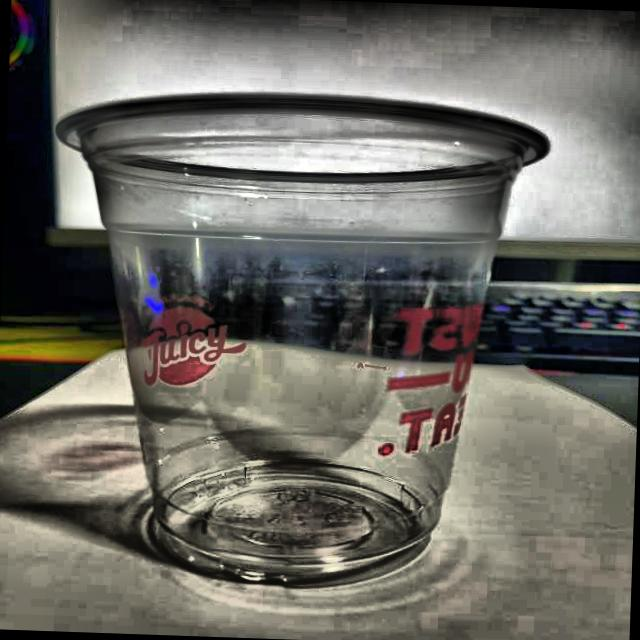plastic cup: (38, 83, 555, 596)
